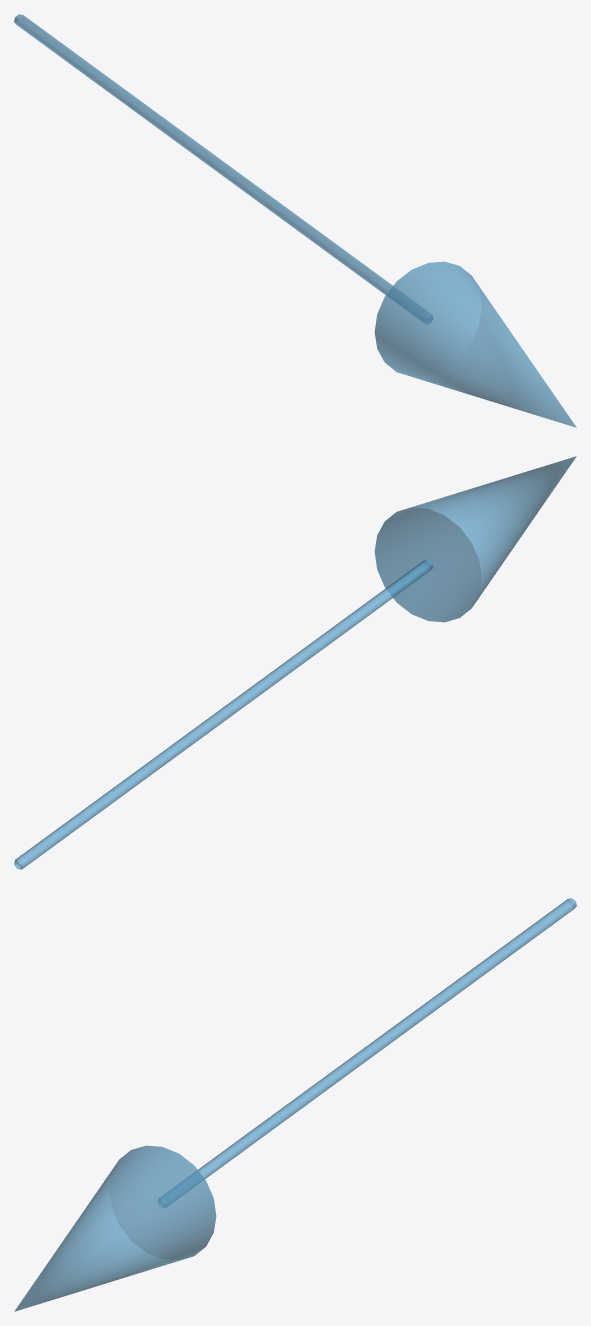
The model's file is gizmoMoveZ.fbx.
3 renders of one model, top to bottom at view 1: azimuth 30°, elevation 25°; view 2: azimuth 150°, elevation 25°; view 3: azimuth 330°, elevation 25°, orthographic.
Visible parts, largest first — view 1: gizmoMoveZ; view 2: gizmoMoveZ; view 3: gizmoMoveZ.
Boxes of the visible parts, x1,y1,x2,y2 form: gizmoMoveZ: (14,14,576,427); gizmoMoveZ: (14,456,576,869); gizmoMoveZ: (14,898,576,1311).
Size of the model in its own units: 5 by 5 by 45.
